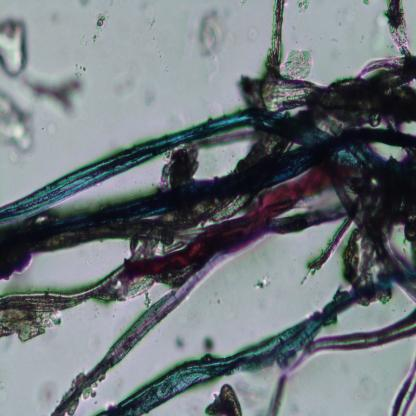Background material: (309, 1, 416, 119), (20, 72, 90, 116), (0, 88, 37, 155), (0, 14, 30, 78), (196, 2, 226, 60), (91, 7, 110, 41)
Cellulose filter fibre: (0, 249, 134, 334), (262, 0, 310, 110), (392, 352, 416, 415)
Cotton: (0, 109, 401, 229), (101, 261, 407, 415), (122, 154, 356, 284)
